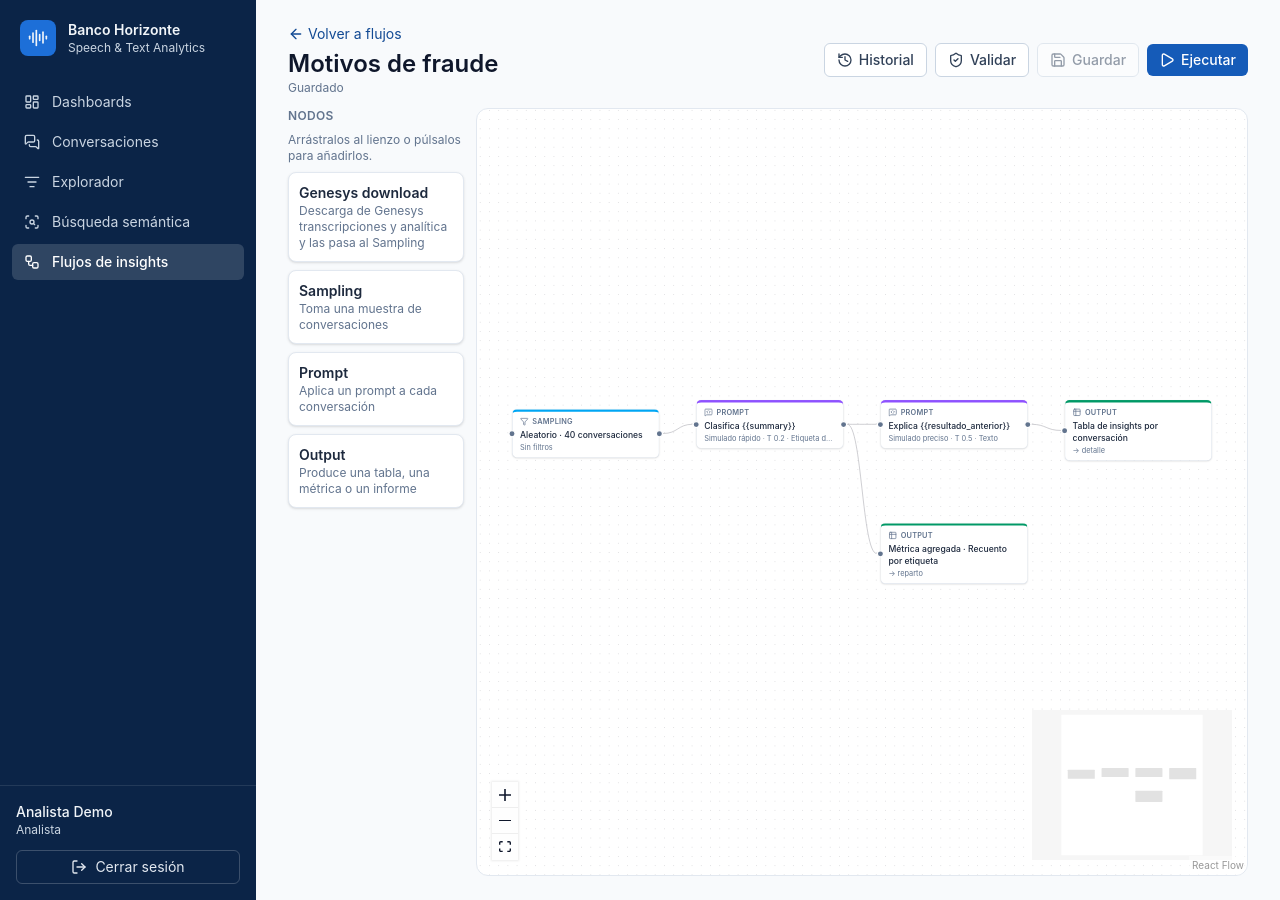
Taxonomía y modelo por defecto › un nodo Prompt nuevo toma el modelo por defecto
What coordinates should you click on to do the following:
click the button with aria-label "Añadir Prompt"
I would click on:
 (376, 389)
Its box is x1=288 y1=352 x2=464 y2=426.
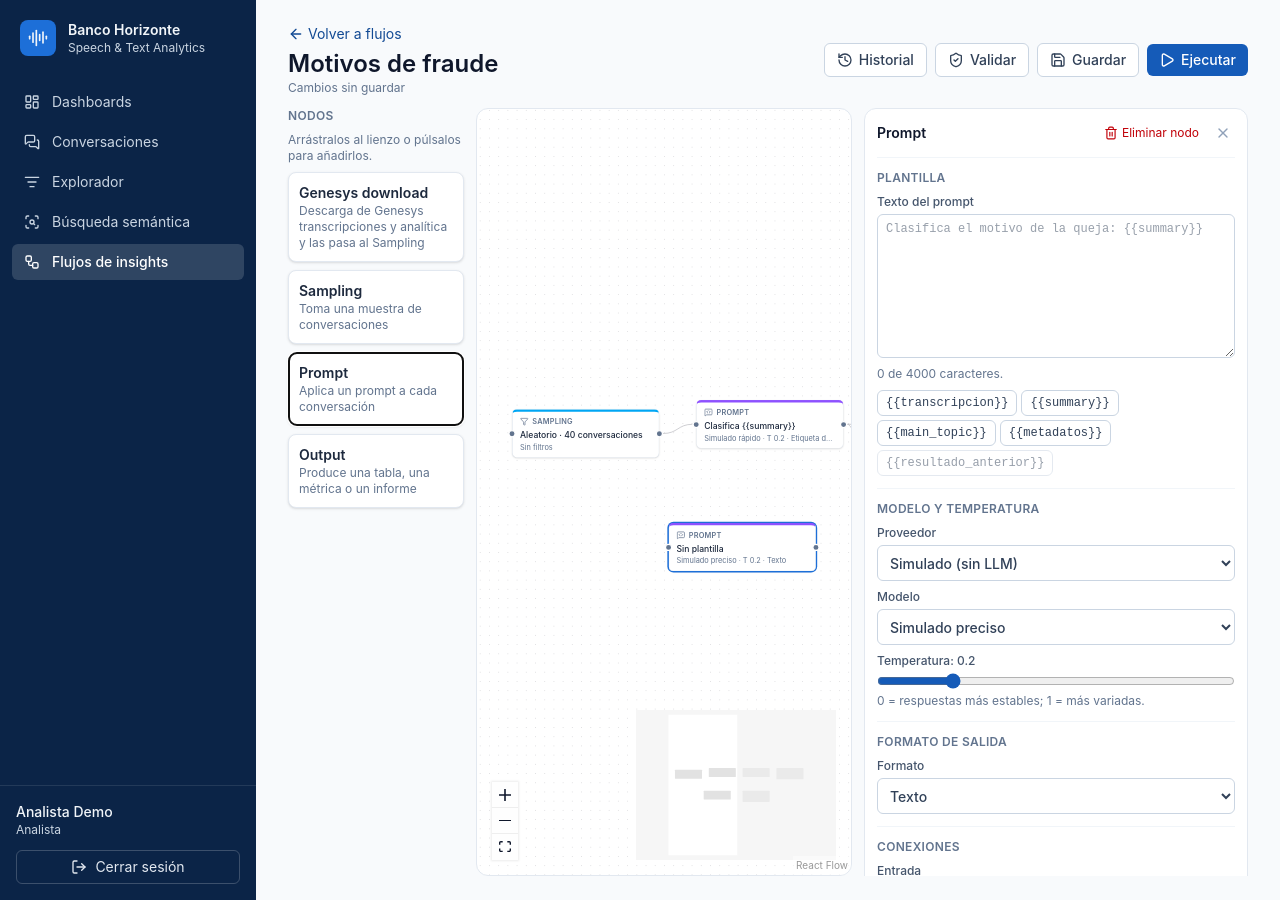
expect the dropdown labelled "Modelo" shows "Simulado preciso": met, box x1=877 y1=609 x2=1235 y2=645
